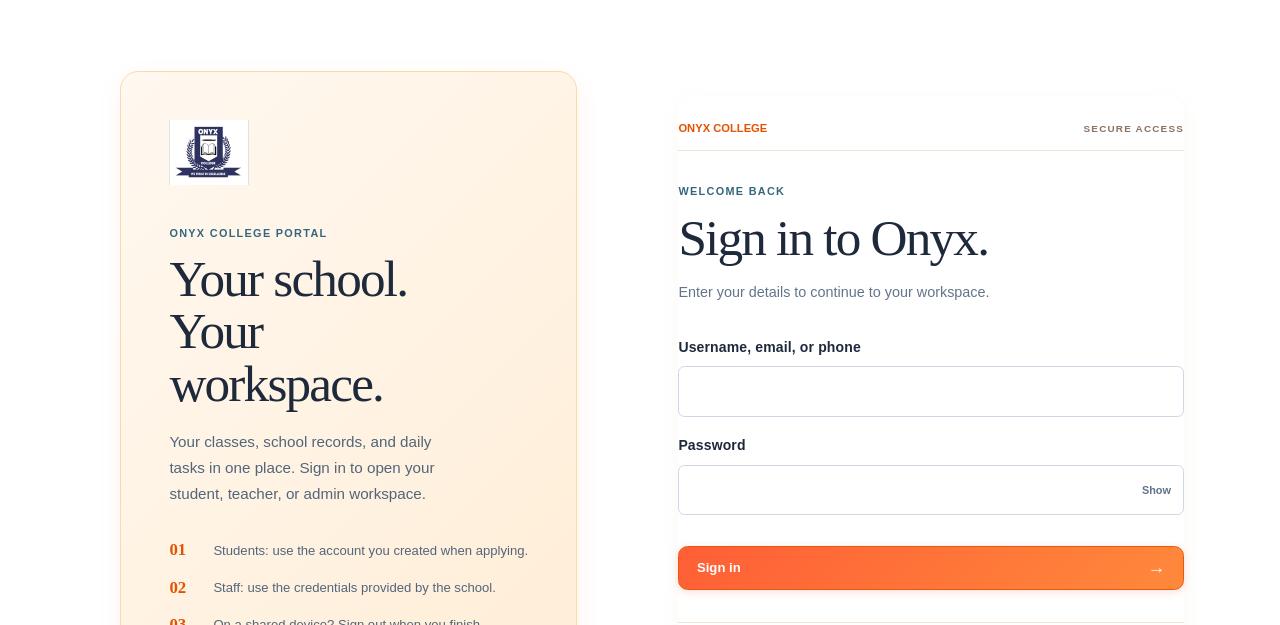
Test case: browser authentication lifecycle › logs safe diagnostics when password change fails before an API response
Type "super.admin" into the field labelled "Username, email, or phone" at [931, 392], box 678,366 -> 1184,417
Type "temporary-secret" into the password field labelled "Password" at [931, 490], box 678,465 -> 1184,515
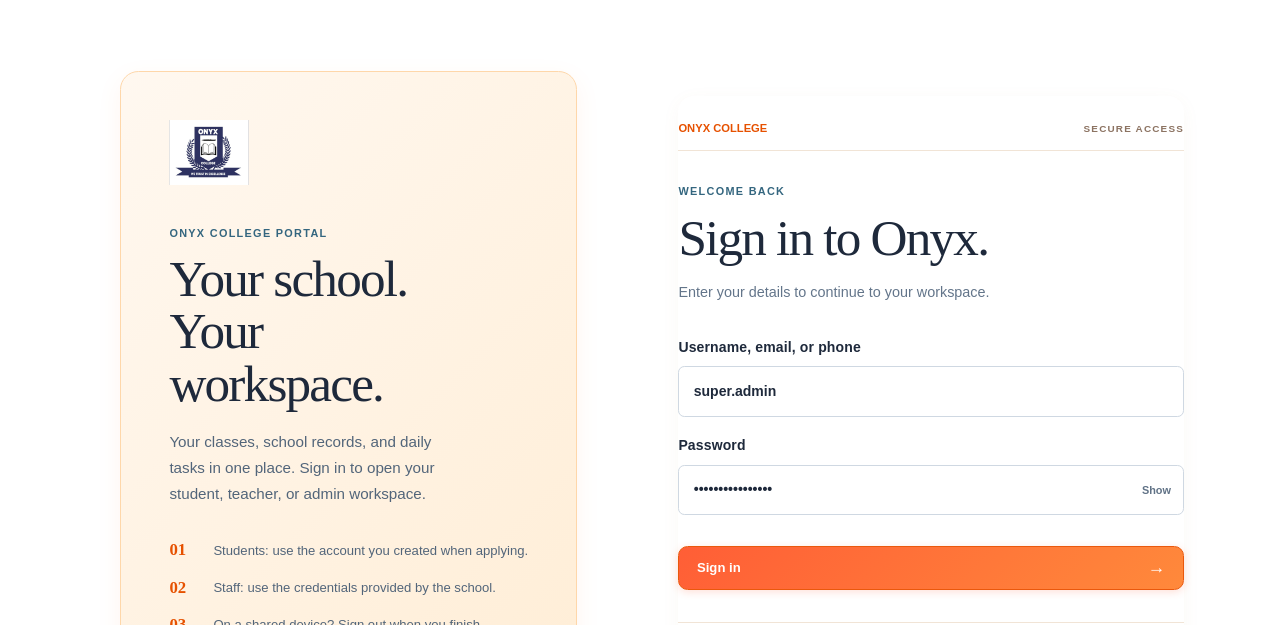
Click the button "Sign in →" at [719, 568], box 678,546 -> 1184,590
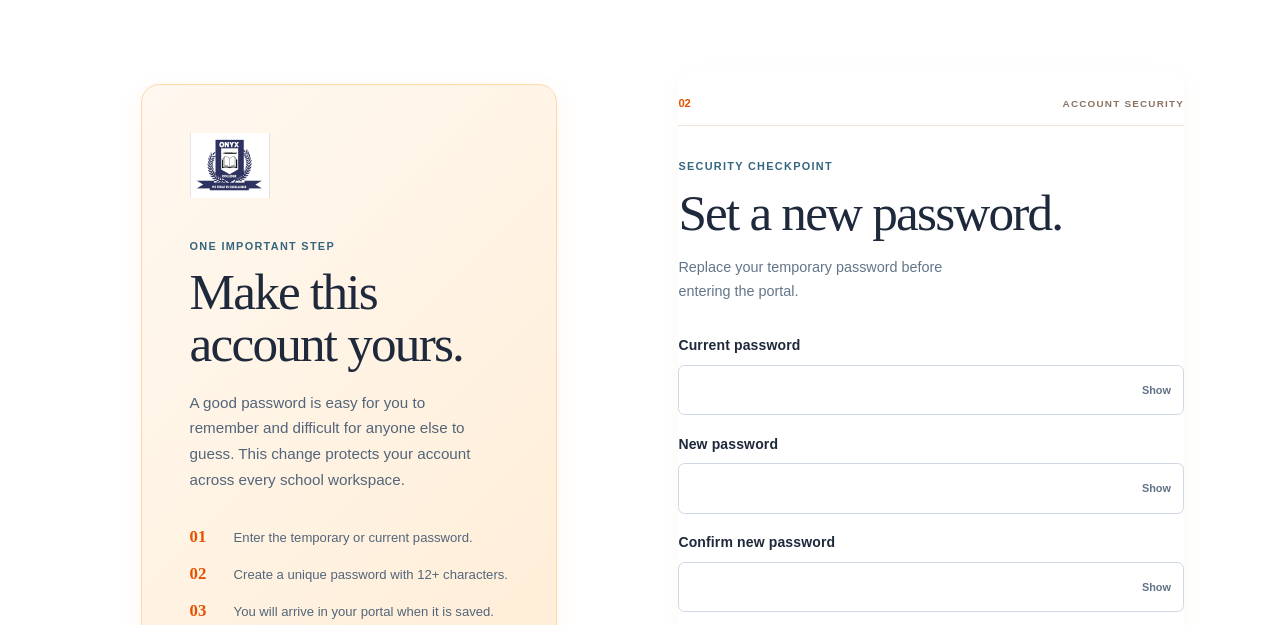
Now the heading "Set a new password." is shown, box 678,186 -> 1062,240
Type "temporary-secret" into the password field labelled "Current password" at [931, 390], box 678,365 -> 1184,415
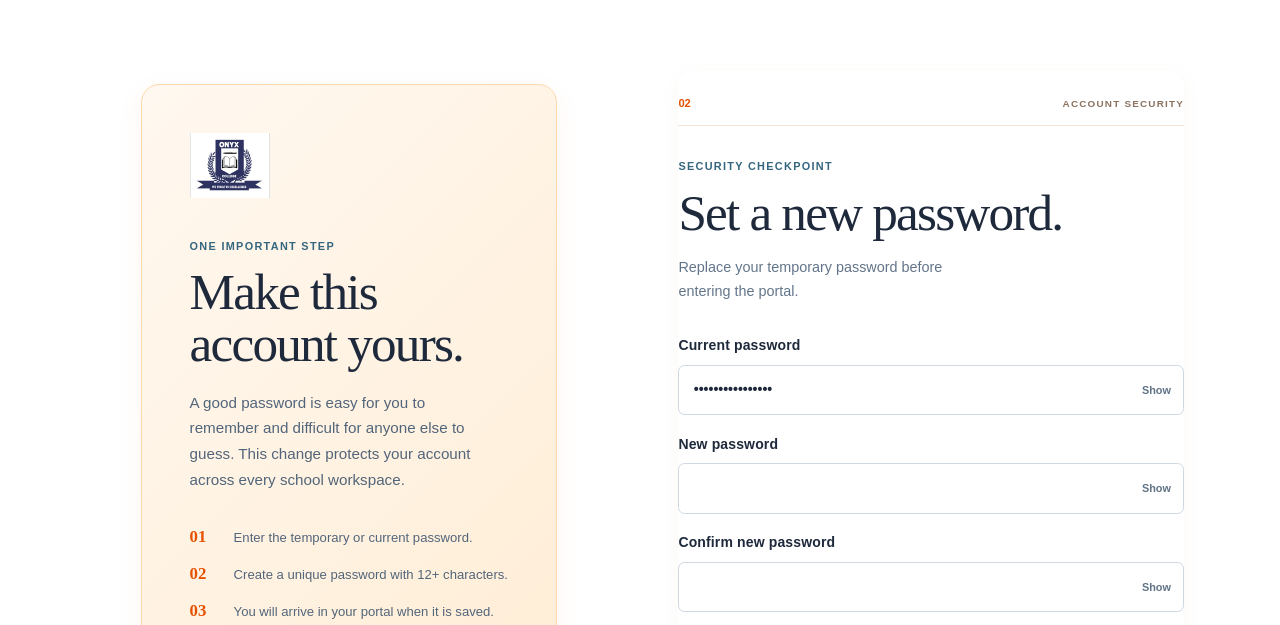
Type "a-secure-new-password-2026" into the password field labelled "New password" at [931, 489], box 678,463 -> 1184,514
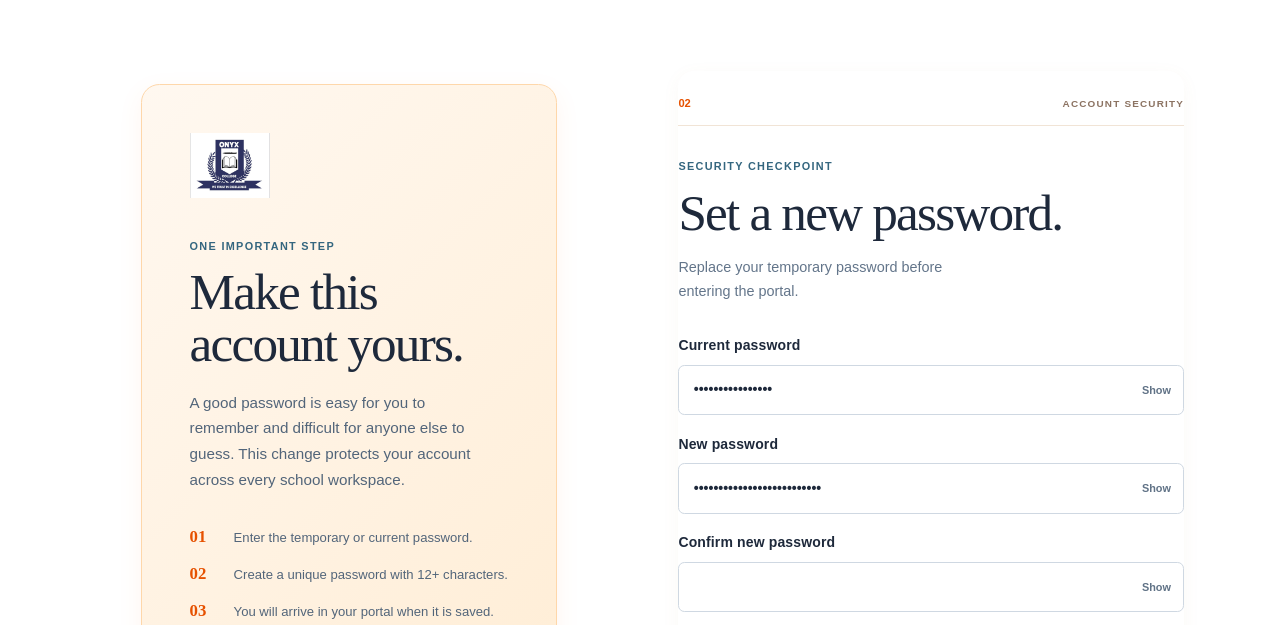
Type "a-secure-new-password-2026" into the password field labelled "Confirm new password" at [931, 587], box 678,562 -> 1184,612
(page scrolled)
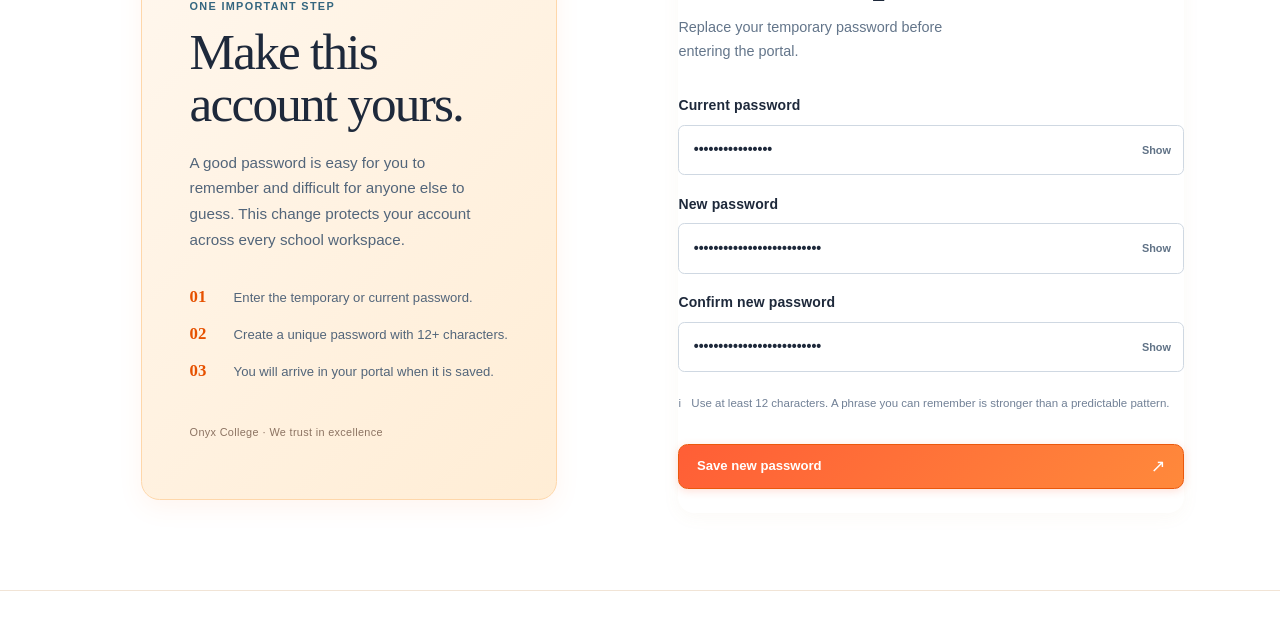
Click the button "Save new password ↗" at [759, 466], box 678,444 -> 1184,489
(page scrolled)
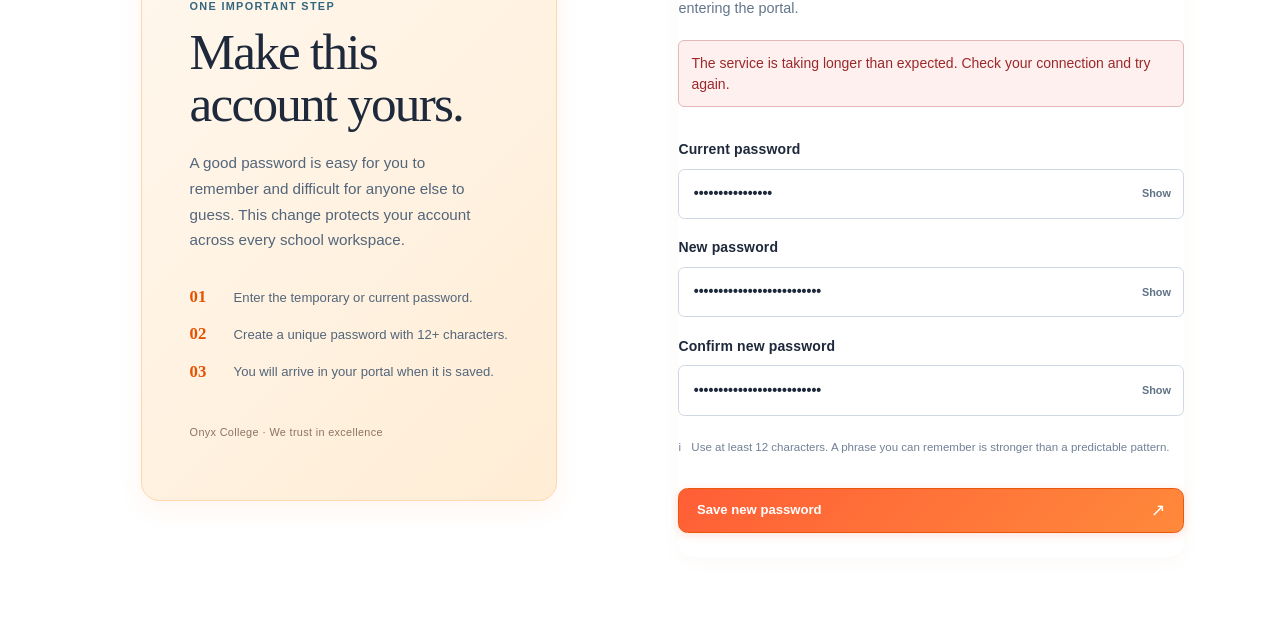
Now the message reads "The service is taking longer than expected. Check your connection and try again.", box 691,55 -> 1151,92
